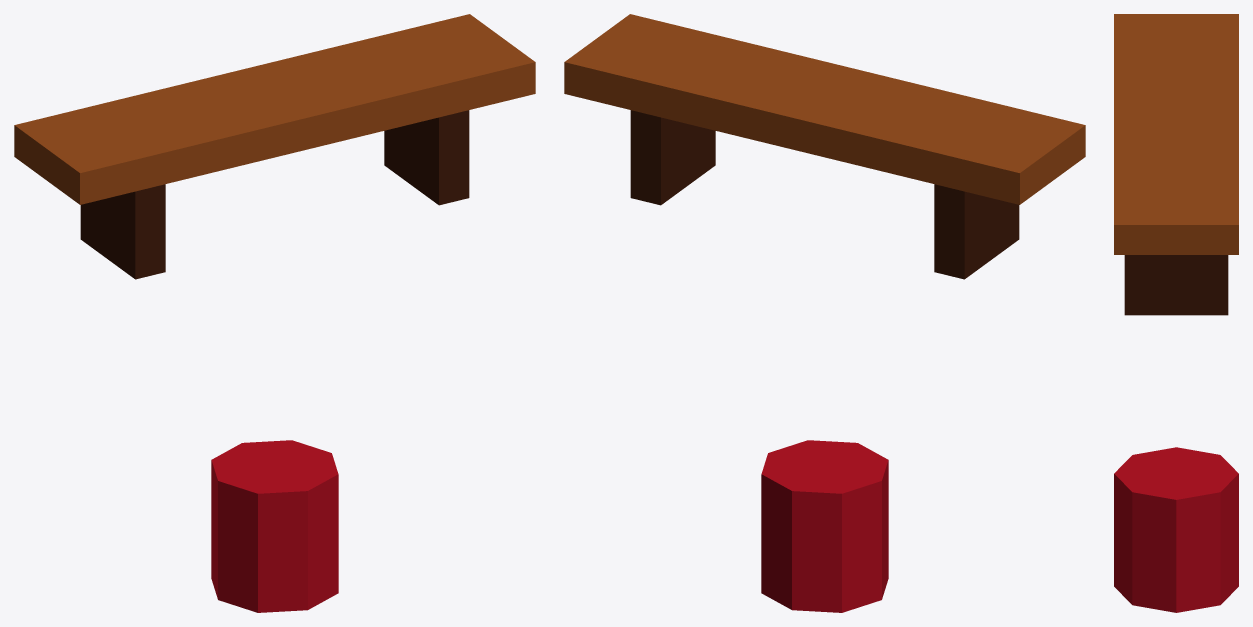
File: wall_shelf.obj
3 views of the same model, side by side, from view 1: azimuth 30°, elevation 25°; view 2: azimuth 150°, elevation 25°; view 3: azimuth 270°, elevation 25° (orthographic). The views are drawn at different scales.
Parts seen in each view (by area): view 1: wall_shelf; view 2: wall_shelf; view 3: wall_shelf.
Part boxes in pixels (bbox=[...]): wall_shelf: bbox=[14, 14, 535, 612]; wall_shelf: bbox=[564, 14, 1085, 612]; wall_shelf: bbox=[1114, 14, 1238, 612].
Bounding box in the file's own units: 1.2 × 1.24 × 0.3.
